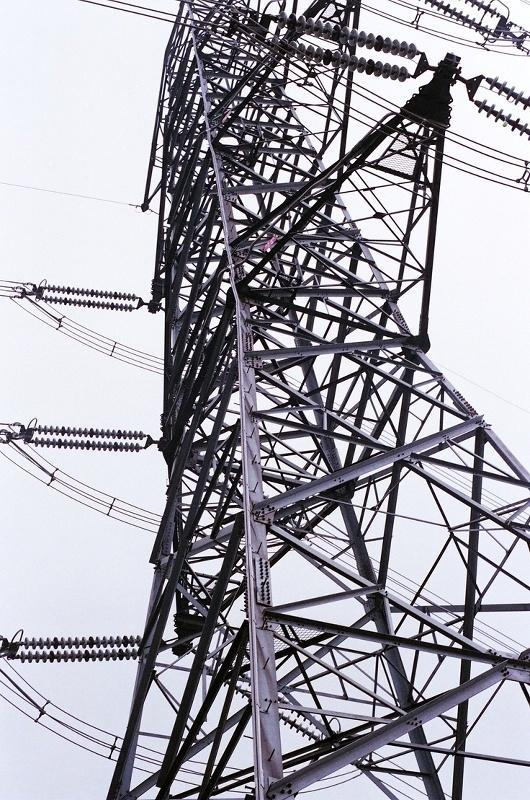power_tower: (0, 1, 530, 799)
